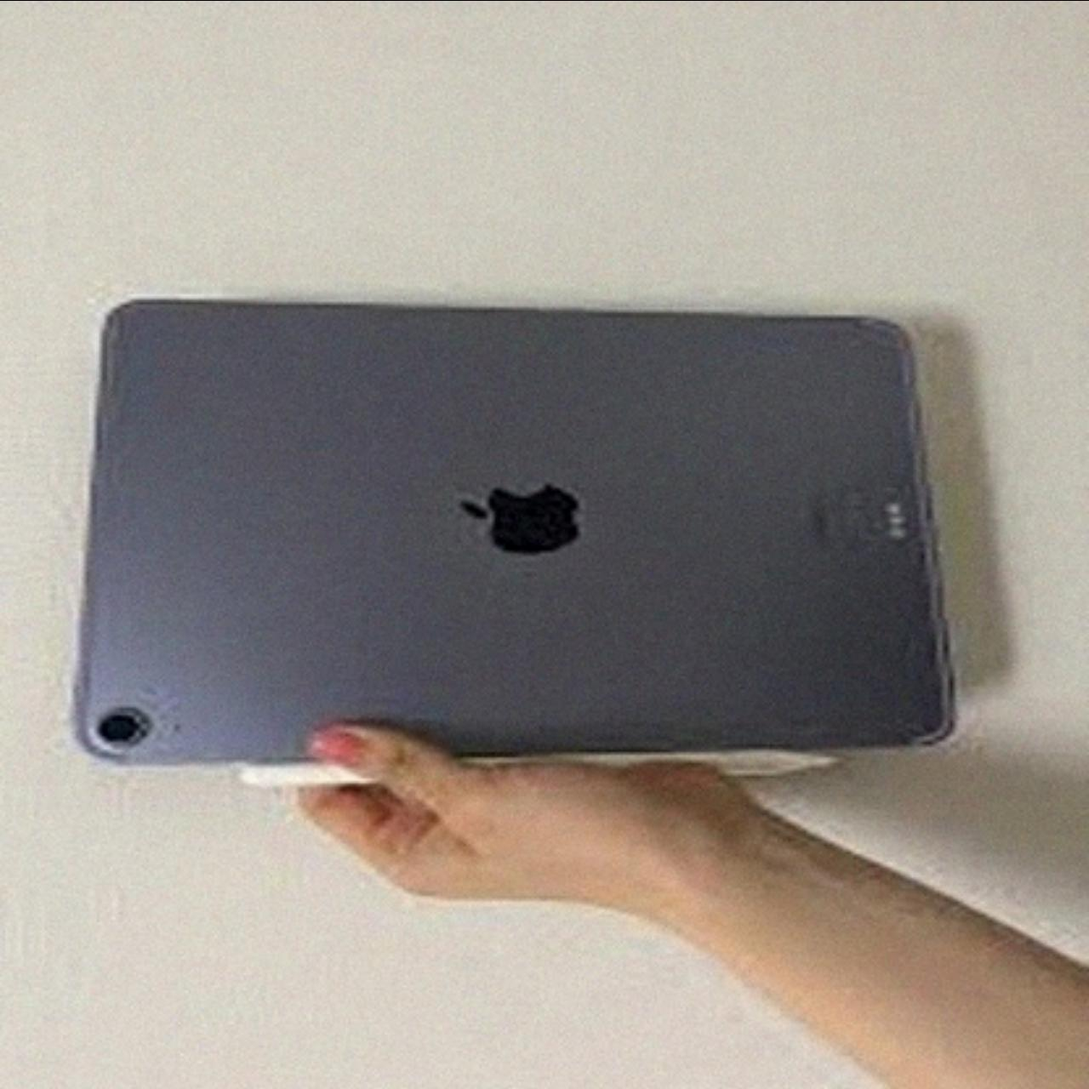Tablet_PC: (55, 259, 979, 806)
